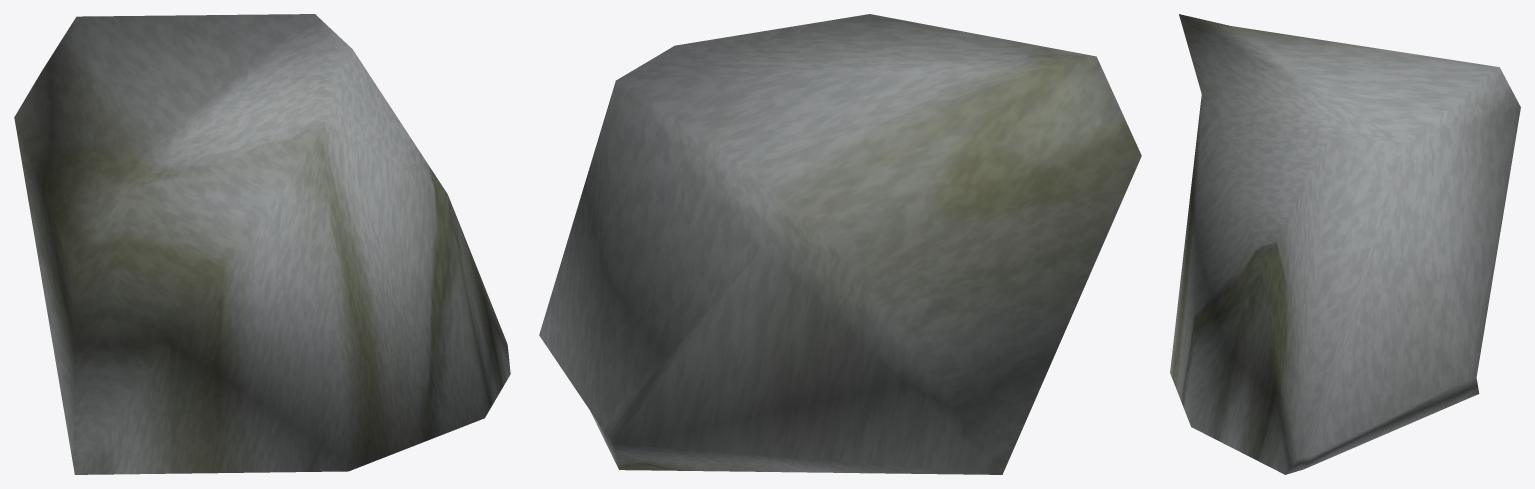
File: Rock_small05.fbx
3 views of the same model, side by side, from view 1: azimuth 30°, elevation 25°; view 2: azimuth 150°, elevation 25°; view 3: azimuth 270°, elevation 25° (orthographic). The views are drawn at different scales.
Visible parts, largest first — view 1: Rock_small05; view 2: Rock_small05; view 3: Rock_small05.
Boxes of the visible parts, left/top/right/bottom form: Rock_small05: left=14, top=14, right=510, bottom=474; Rock_small05: left=539, top=14, right=1141, bottom=474; Rock_small05: left=1170, top=14, right=1520, bottom=474.
Bounding box in the file's own units: 0.3928 × 0.26 × 0.2879.
Materials: 1 (1 with a texture image).
